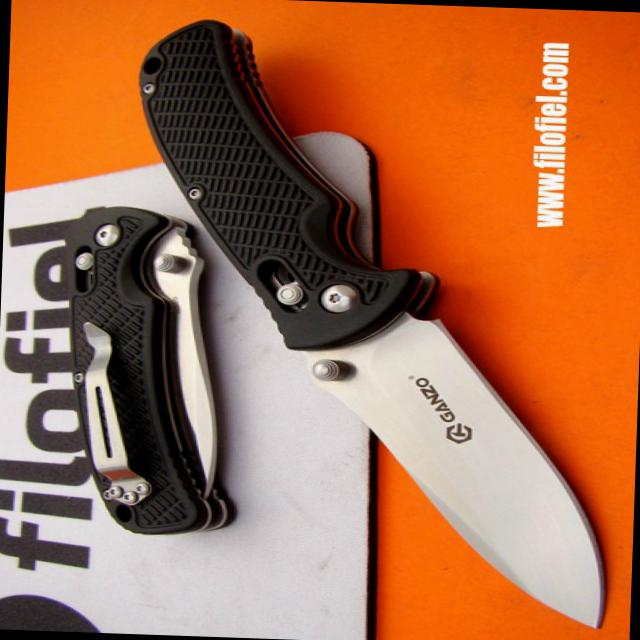knife: (270, 296, 622, 638)
